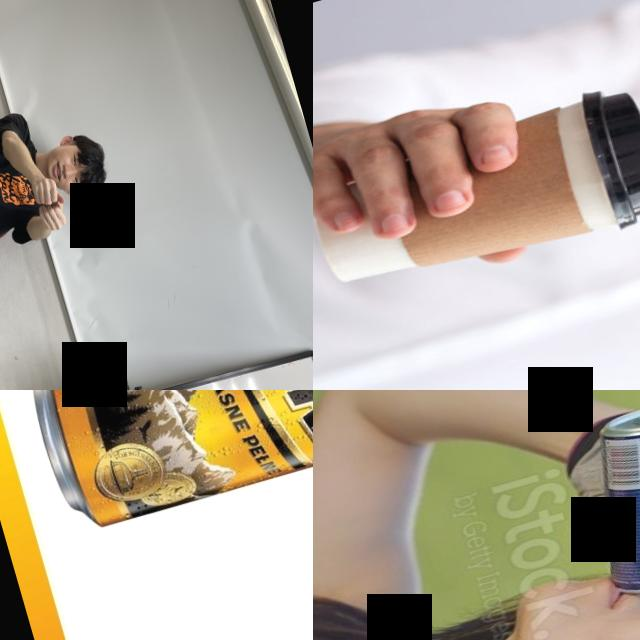can: (13, 390, 313, 539), (551, 390, 640, 612)
cup: (313, 77, 640, 310)
